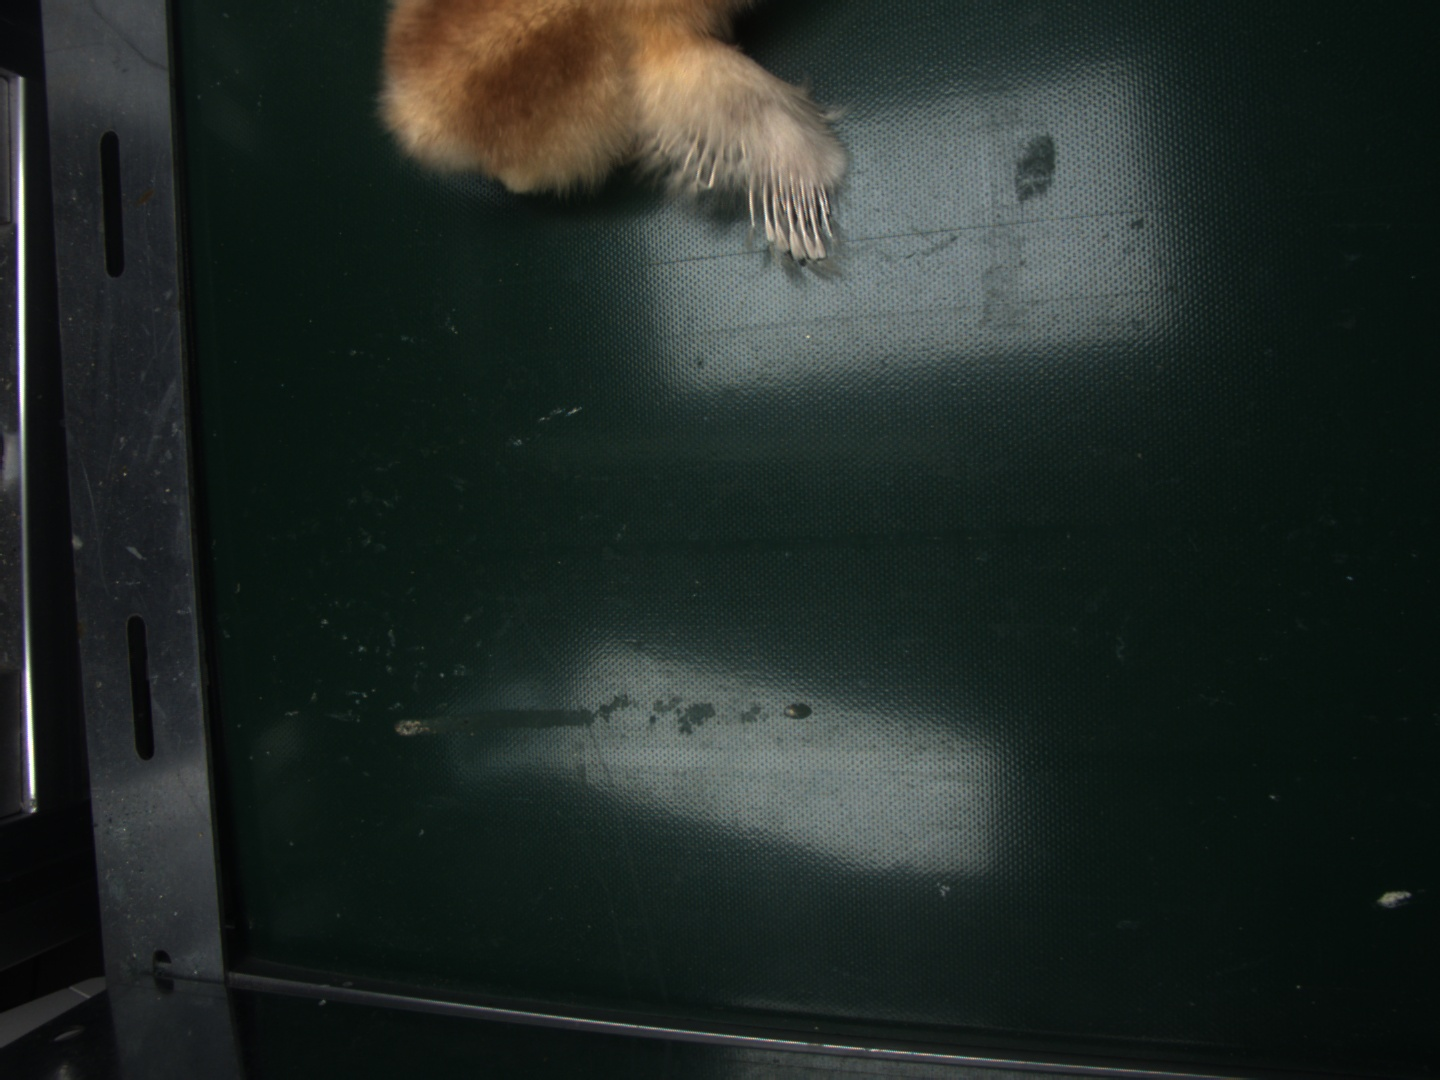female: (751, 169, 835, 259)
